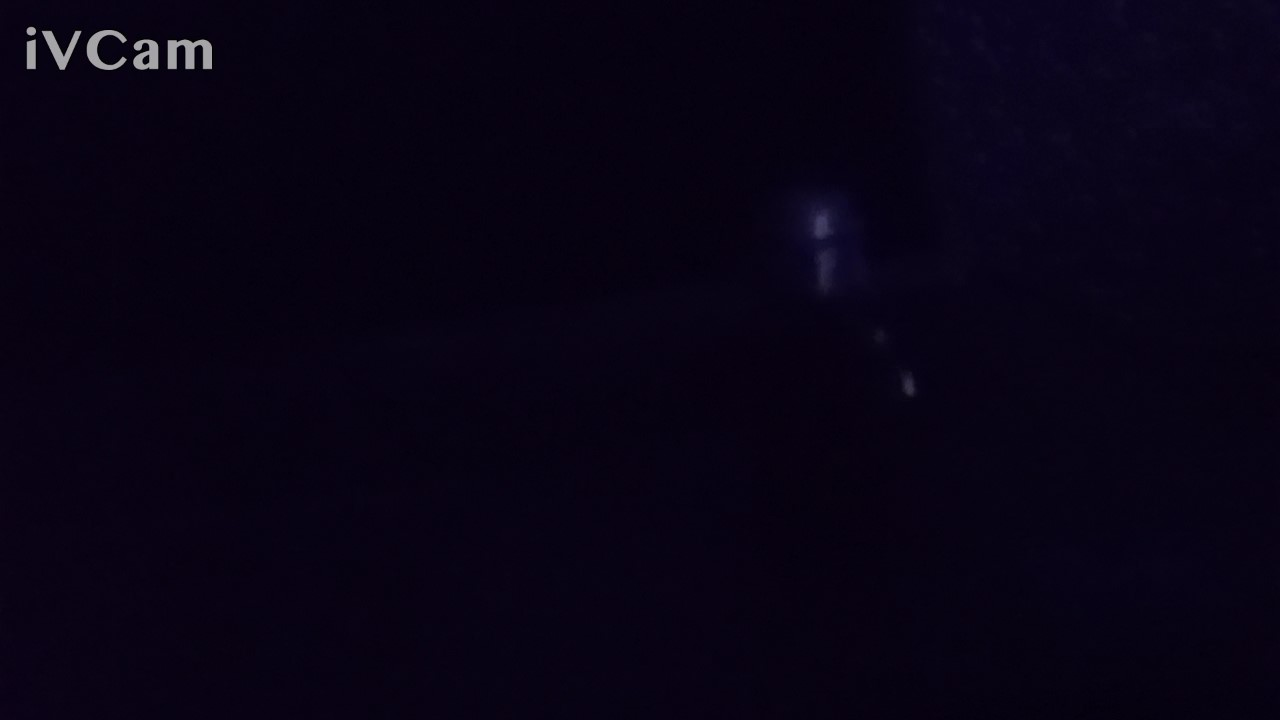mandalorian: (711, 168, 948, 613)
